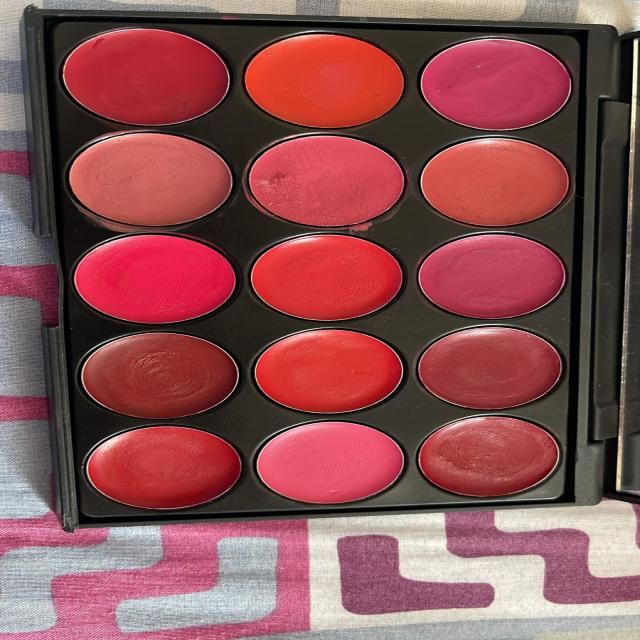lip shade: (33, 25, 245, 131), (229, 128, 413, 242), (58, 121, 247, 231), (229, 319, 422, 423), (388, 129, 584, 231), (225, 220, 406, 330), (406, 31, 588, 140), (404, 408, 596, 508), (236, 24, 413, 130), (58, 232, 247, 330), (62, 422, 247, 522), (236, 415, 420, 515), (396, 325, 588, 415), (403, 231, 579, 327), (72, 329, 252, 419)
